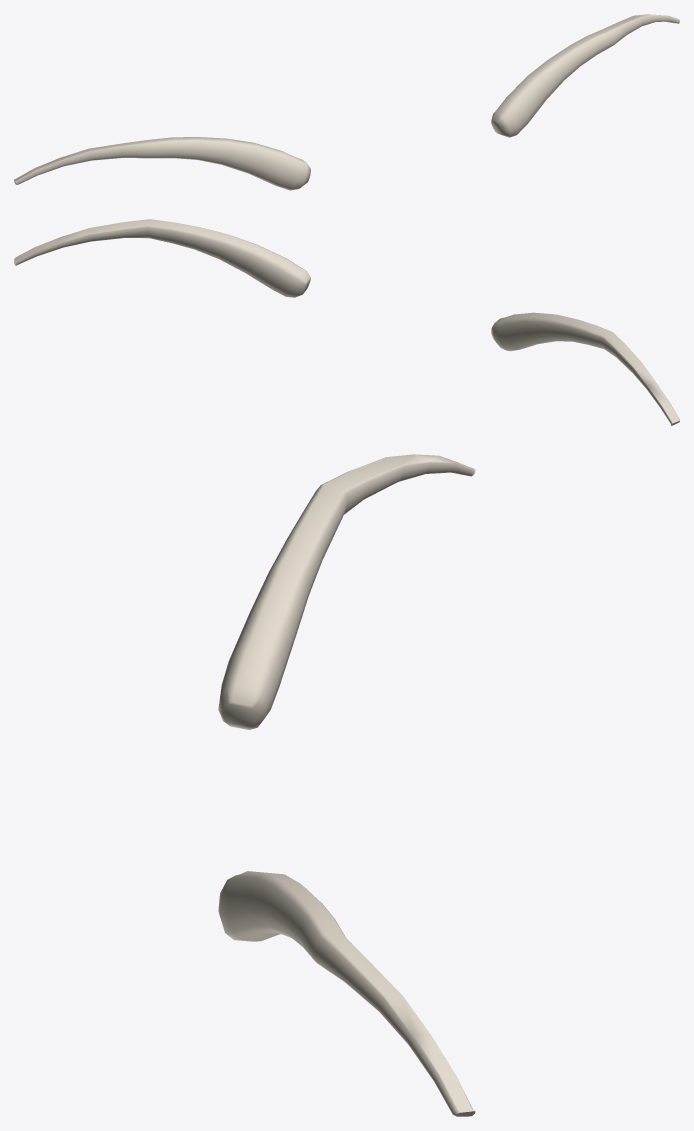
File: Eyebrows_29_07.fbx
The picture shows the model from 3 angles, top to bottom: view 1: azimuth 30°, elevation 25°; view 2: azimuth 150°, elevation 25°; view 3: azimuth 270°, elevation 25°; orthographic projection. The views are drawn at different scales.
Parts seen in each view (by area): view 1: Eyebrows_29_07; view 2: Eyebrows_29_07; view 3: Eyebrows_29_07.
Boxes of the visible parts, x1=… form: Eyebrows_29_07: x1=14, y1=14, x2=679, y2=190; Eyebrows_29_07: x1=14, y1=219, x2=679, y2=425; Eyebrows_29_07: x1=218, y1=454, x2=475, y2=1116.
Size of the model in its own units: 19.88 by 1.77 by 3.33.
